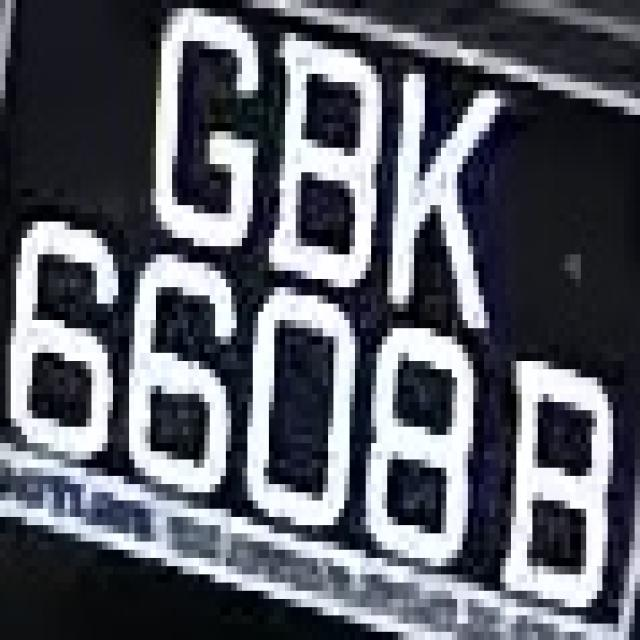0: (258, 229, 355, 542)
6: (124, 205, 236, 525), (22, 172, 118, 534)
8: (371, 304, 473, 590)
B: (258, 16, 387, 288), (506, 342, 616, 634)
G: (129, 8, 280, 255)
K: (382, 33, 500, 353)
